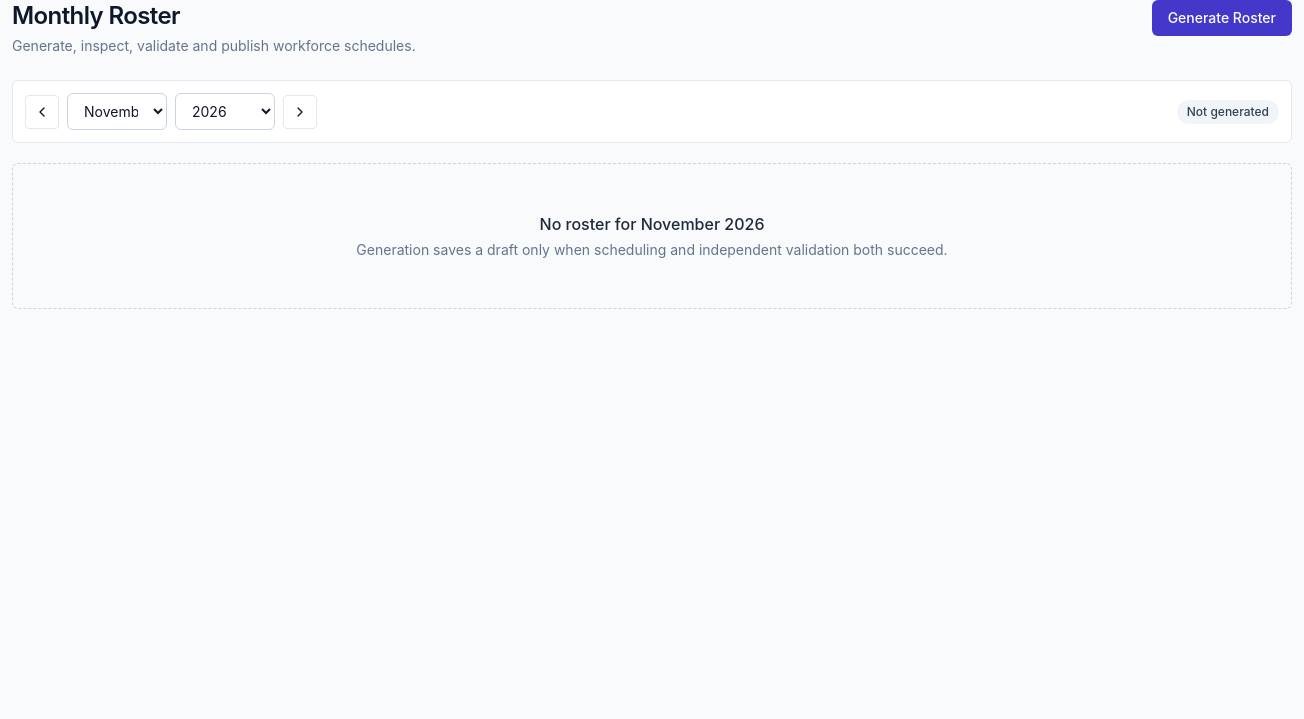
Test: Task 9 monthly roster › requires a brand selection and shows only actual assignments for that brand and process
This screenshot has width=1304, height=719.
Select "December" in the dropdown named "Roster month" at (117, 112), box [67, 93, 167, 130]
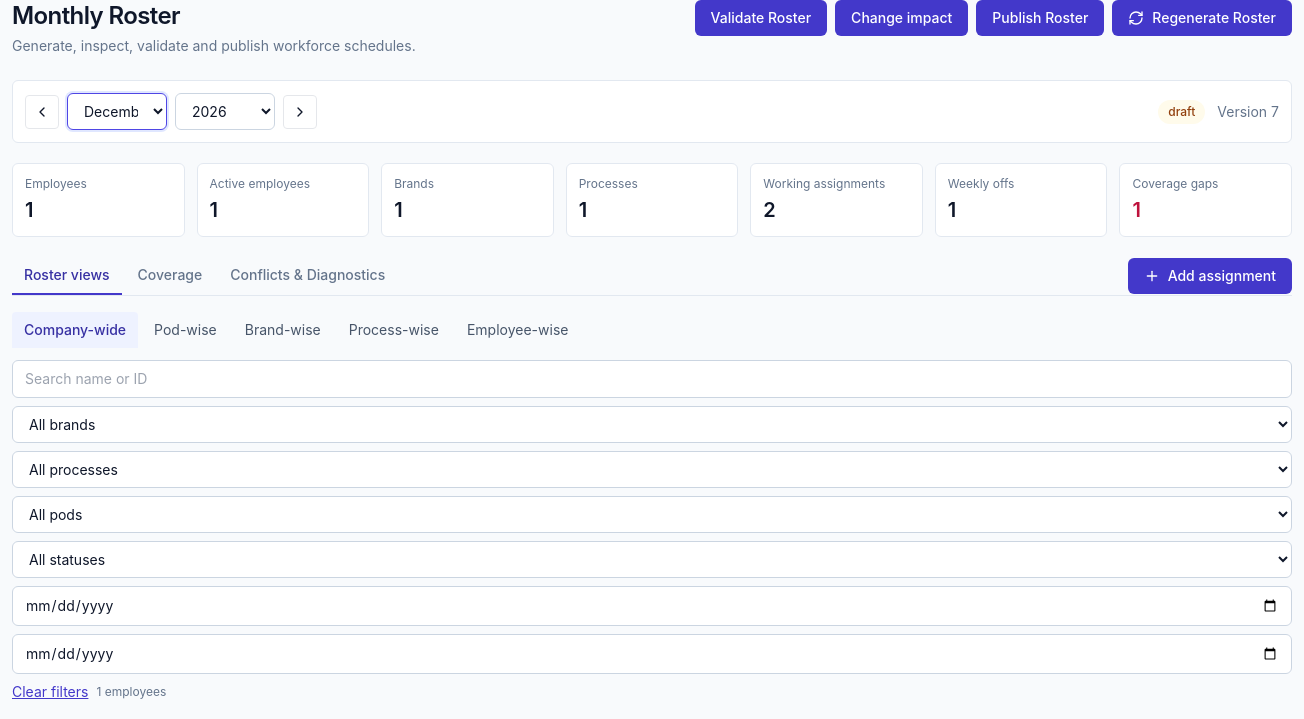
Click the tab "Brand-wise" at (283, 330), box [233, 312, 333, 348]
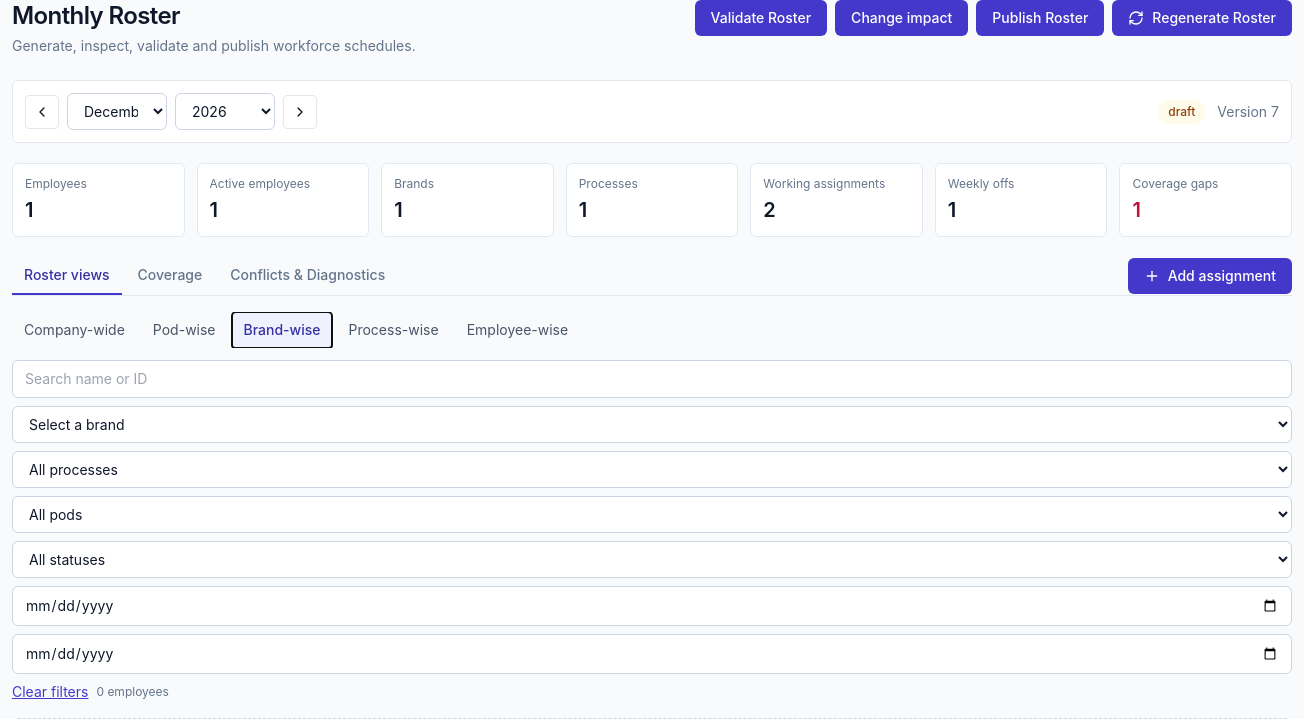
Select "Northstar" in the dropdown named "Brand-wise brand selector" at (652, 424), box [12, 406, 1292, 443]
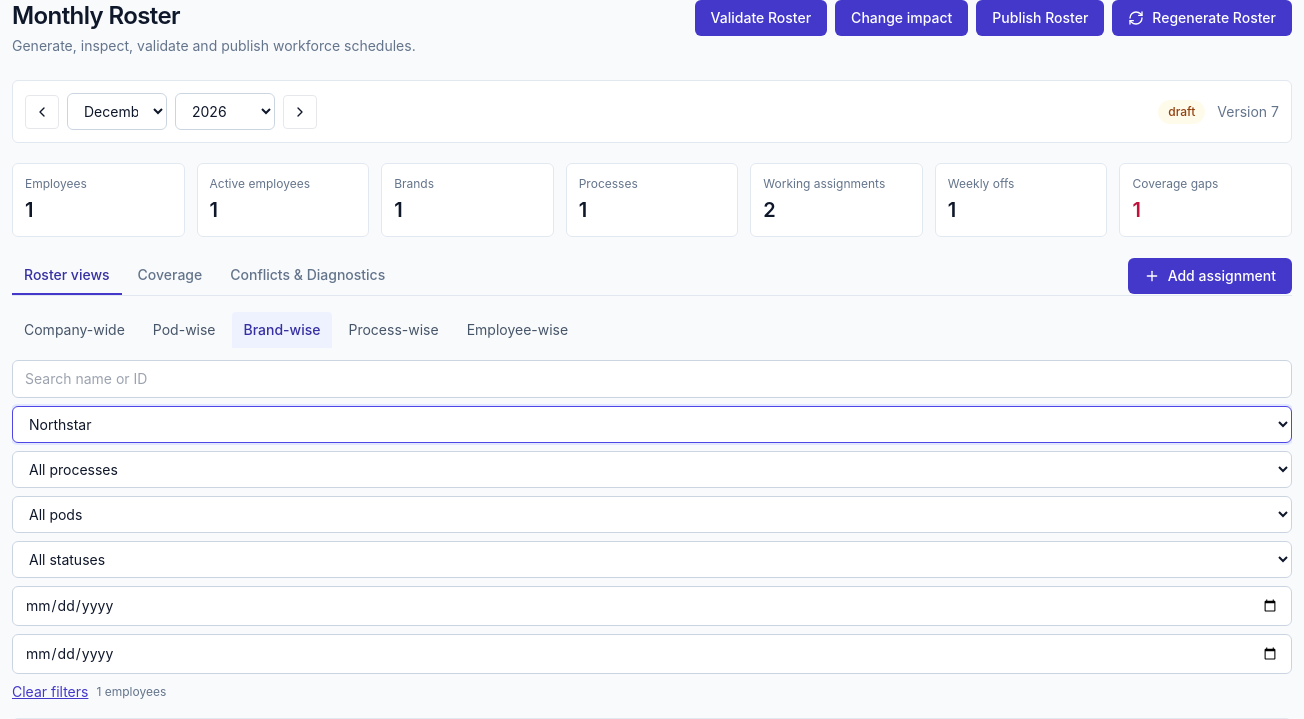
Expected: the text "Cedar" is not shown
Select "Support" in the dropdown named "Brand-wise process selector" at (652, 470), box [12, 451, 1292, 488]
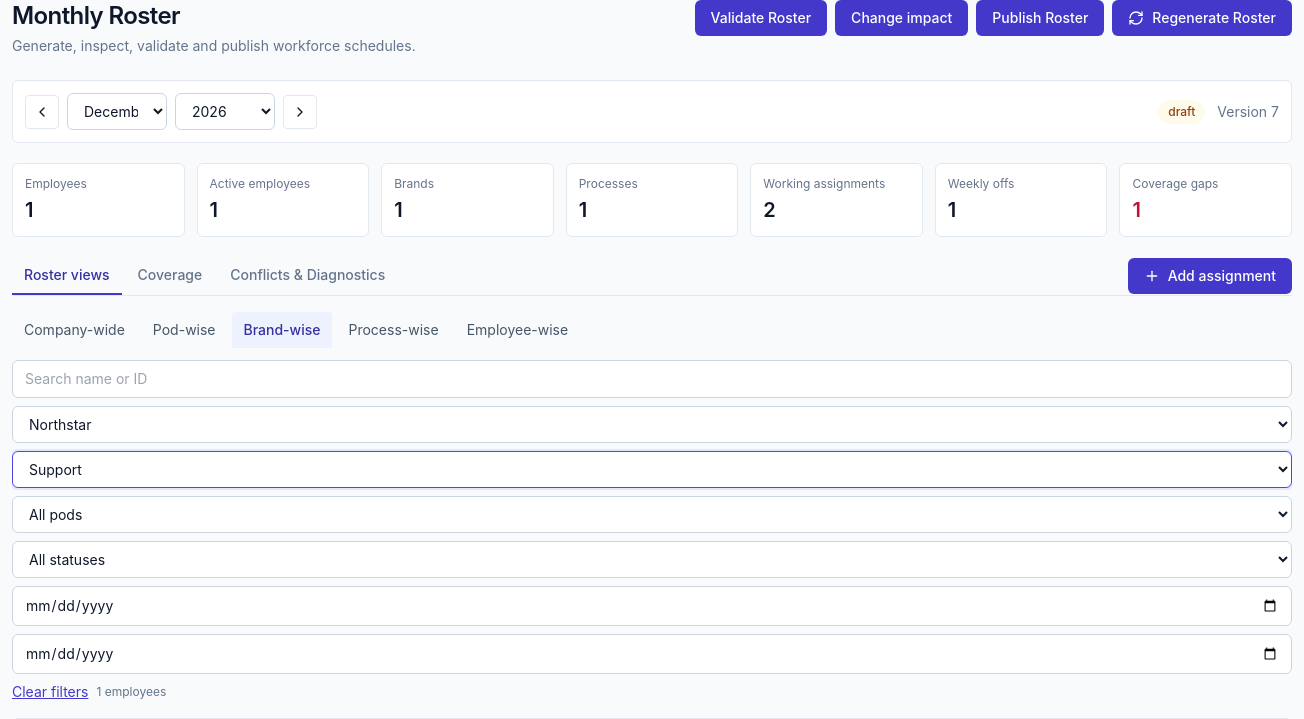
Select "Cedar" in the dropdown named "Brand-wise brand selector" at (652, 424), box [12, 406, 1292, 443]
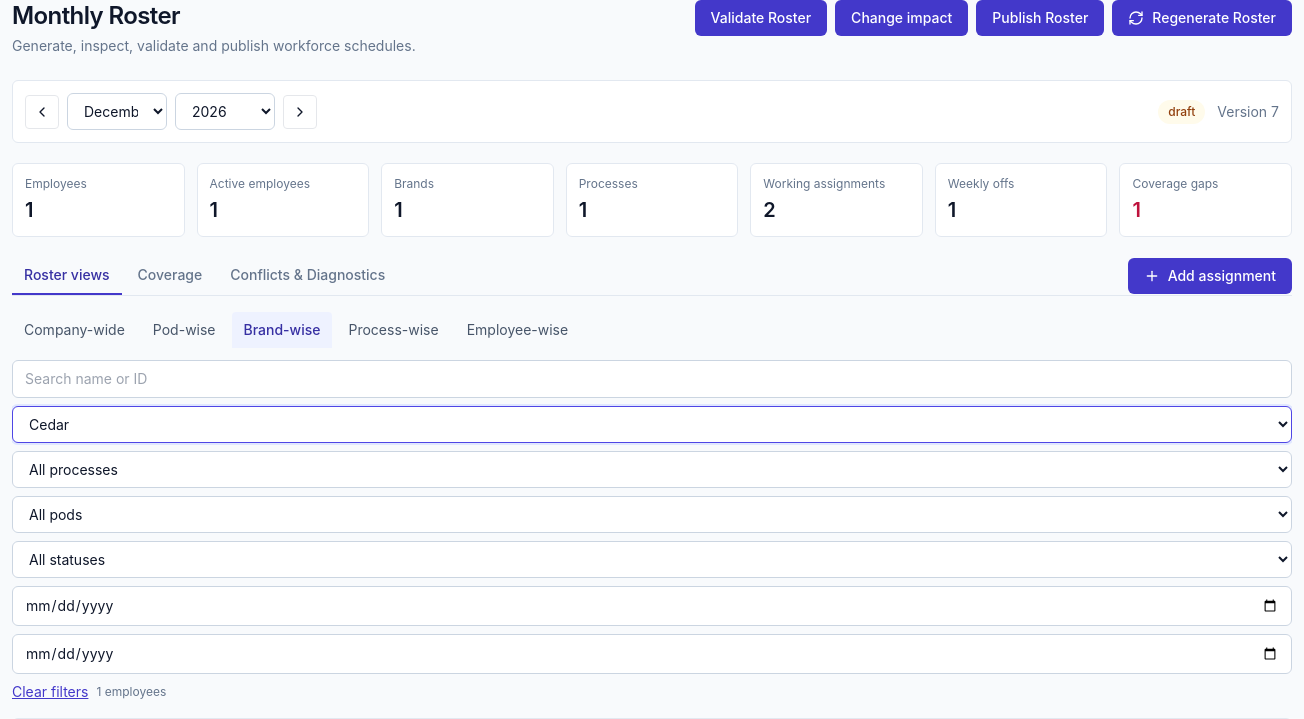
Select "Select a brand" in the dropdown named "Brand-wise brand selector" at (652, 424), box [12, 406, 1292, 443]
(page scrolled)
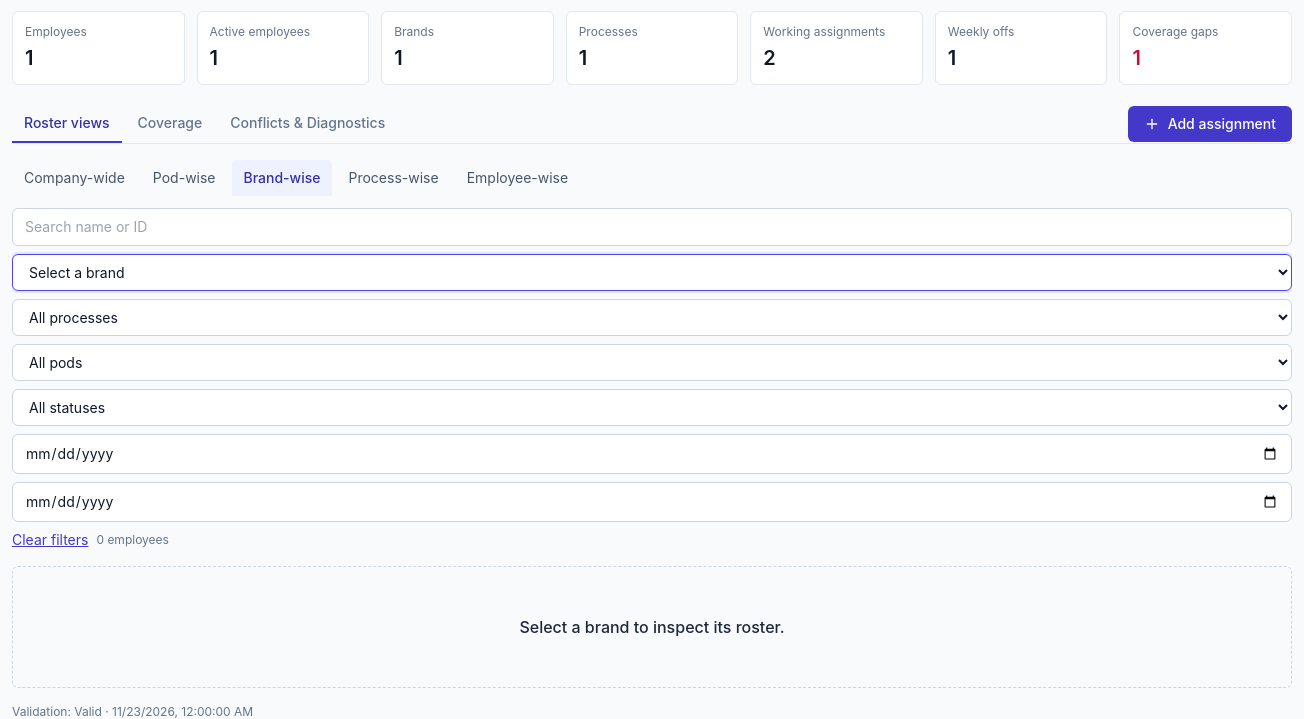
Expected: the text "Select a brand to inspect its roster." is shown, [519, 617, 785, 637]
